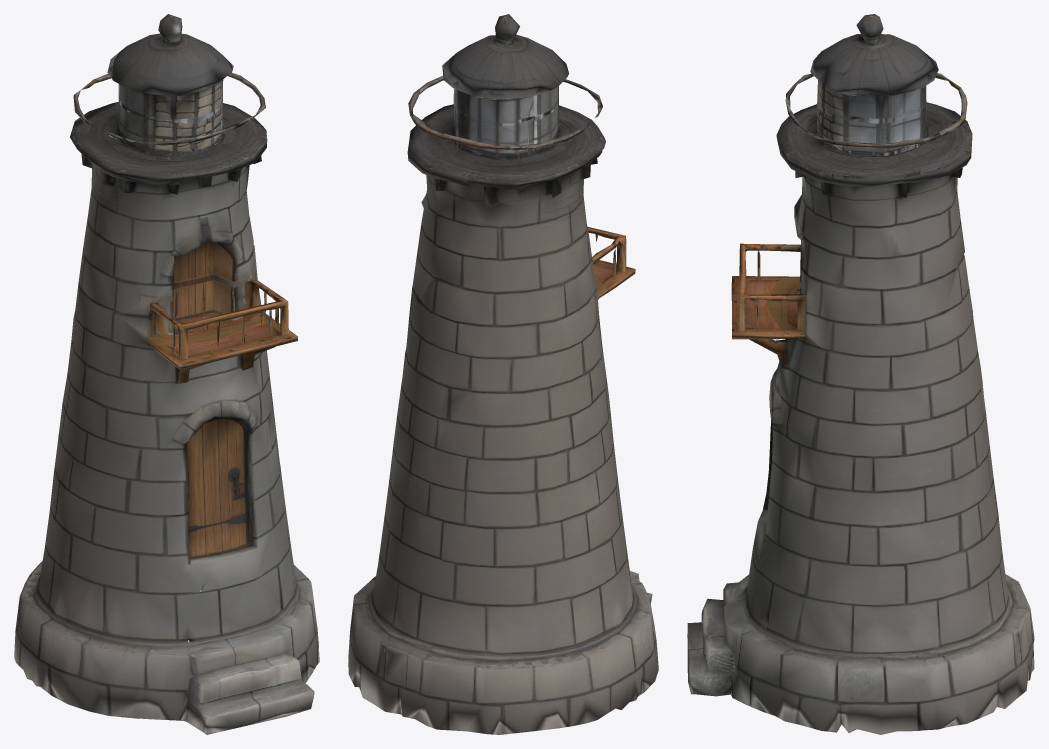
The model's file is A_Viking_style_lighth_0728191636_texture.fbx.
3 renders of one model, left to right at view 1: azimuth 30°, elevation 25°; view 2: azimuth 150°, elevation 25°; view 3: azimuth 270°, elevation 25°, orthographic. The views are drawn at different scales.
Parts seen in each view (by area): view 1: Mesh1.0; view 2: Mesh1.0; view 3: Mesh1.0.
Boxes of the visible parts, x1,y1,x2,y2 form: Mesh1.0: [14, 14, 319, 734]; Mesh1.0: [348, 14, 658, 734]; Mesh1.0: [687, 14, 1034, 734].
Size of the model in its own units: 85.18 by 199 by 95.62.
1 material, 1 textured.
